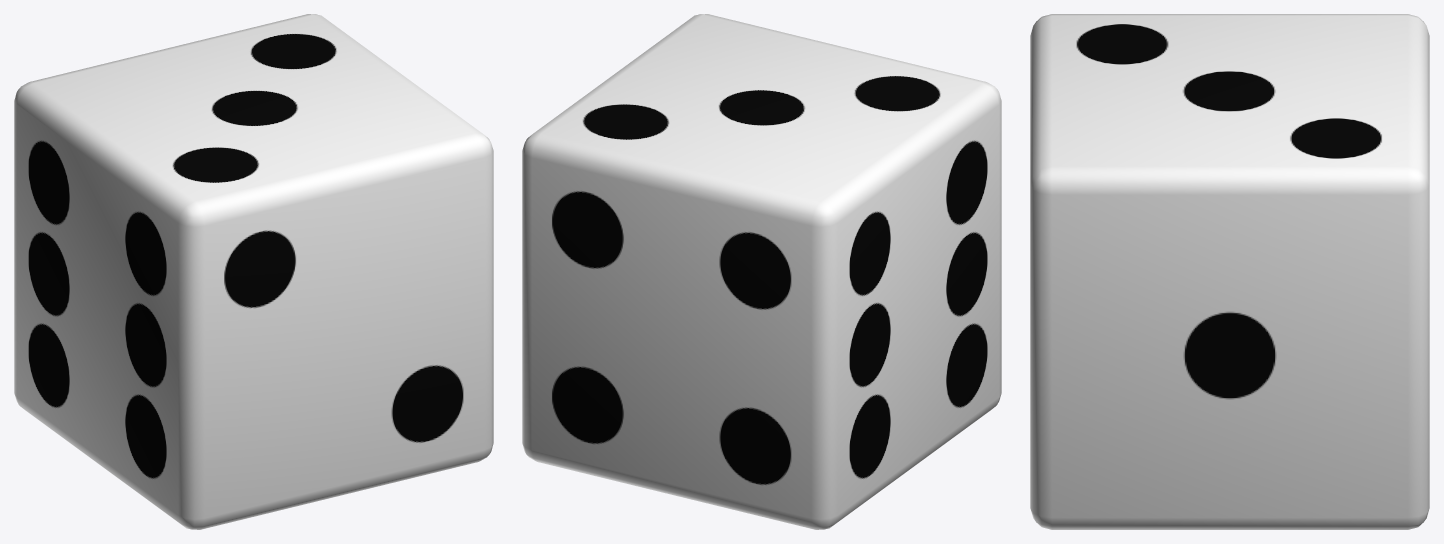
Rendered from Dice.fbx.
The picture shows the model from 3 angles, left to right: view 1: azimuth 30°, elevation 25°; view 2: azimuth 150°, elevation 25°; view 3: azimuth 270°, elevation 25°; orthographic projection. The views are drawn at different scales.
Visible parts, largest first — view 1: Dice; view 2: Dice; view 3: Dice.
Part boxes in pixels (x1,y1,x2,y2): Dice: (14, 14, 493, 529); Dice: (522, 14, 1001, 529); Dice: (1030, 14, 1429, 529).
Bounding box in the file's own units: 200 × 200 × 200.
